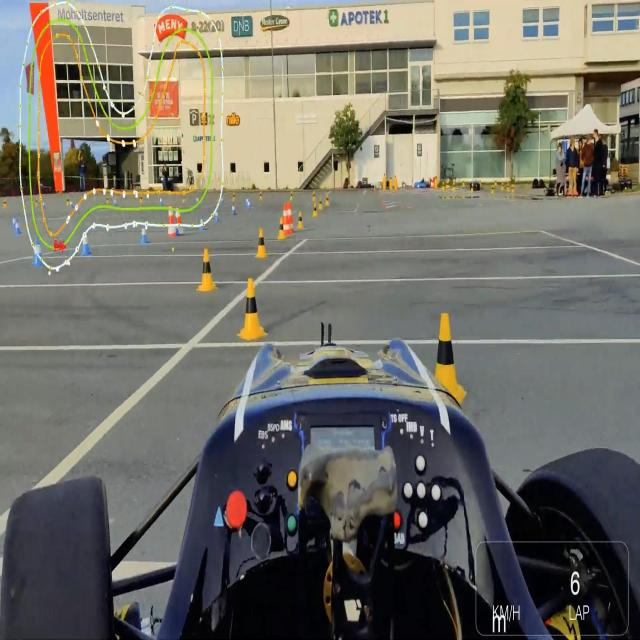blue_cone: (30, 234, 45, 269), (78, 228, 92, 259), (140, 226, 149, 246), (14, 218, 22, 236), (10, 214, 18, 230), (199, 215, 207, 231), (214, 205, 219, 225), (231, 204, 237, 216), (175, 222, 179, 236), (247, 200, 252, 210), (246, 196, 249, 207)
large_orange_cone: (166, 204, 178, 238), (282, 202, 292, 236), (175, 205, 184, 236), (287, 202, 295, 233)
yellow_cone: (422, 303, 472, 407), (234, 277, 270, 343), (195, 243, 220, 293), (254, 227, 269, 259), (277, 217, 286, 241), (297, 210, 305, 232), (311, 202, 319, 218), (324, 193, 330, 208), (318, 196, 324, 210), (310, 190, 317, 201), (259, 190, 263, 202), (232, 191, 236, 202), (290, 192, 294, 202)
